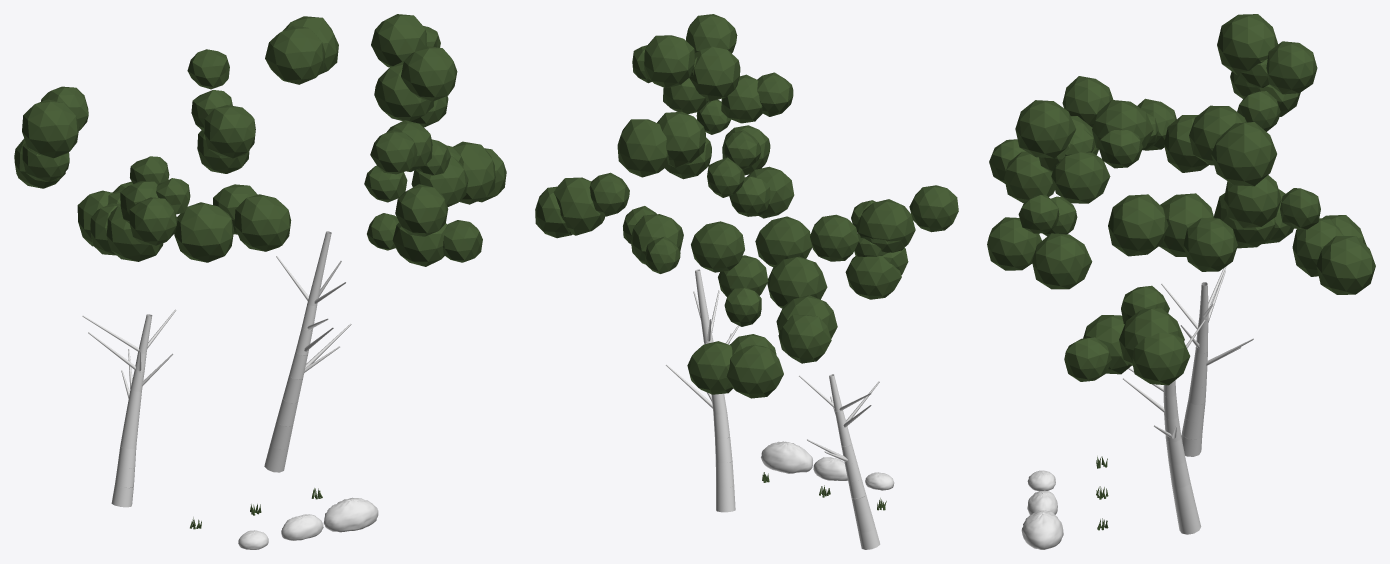
Rendered from tls_env_107_kit_nature_v2.fbx.
3 renders of one model, left to right at view 1: azimuth 30°, elevation 25°; view 2: azimuth 150°, elevation 25°; view 3: azimuth 270°, elevation 25°, orthographic. The views are drawn at different scales.
Parts seen in each view (by area): view 1: TLS_Nat_Tree1_Trunk, TLS_Nat_Tree0_Leaves6_1, TLS_Nat_Tree1_Leaves6_2, TLS_Nat_Tree0_Leaves2_1, TLS_Nat_Tree0_Trunk, TLS_Nat_Tree0_Leaves6_2, TLS_Nat_Tree1_Leaves4_1, TLS_Nat_Tree0_Leaves1_2, TLS_Nat_Tree1_Leaves3_2, TLS_Nat_Tree1_Leaves1_2, TLS_Nat_Tree1_Leaves4_2, TLS_Nat_Tree0_Leaves5_0 (+25 smaller); view 2: TLS_Nat_Tree1_Trunk, TLS_Nat_Tree1_Leaves6_0, TLS_Nat_Tree0_Leaves3_0, TLS_Nat_Tree0_Trunk, TLS_Nat_Tree1_Leaves1_2, TLS_Nat_Tree0_Leaves6_1, TLS_Nat_Tree0_Leaves1_1, TLS_Nat_Tree1_Leaves4_2, TLS_Nat_Tree0_Leaves6_2, TLS_Nat_Tree0_Leaves4_2, TLS_Nat_Tree0_Leaves2_1, TLS_Nat_Tree1_Leaves0_1 (+25 smaller); view 3: TLS_Nat_Tree1_Leaves6_0, TLS_Nat_Tree0_Leaves6_2, TLS_Nat_Tree0_Leaves3_1, TLS_Nat_Tree1_Leaves4_1, TLS_Nat_Tree0_Leaves2_1, TLS_Nat_Tree1_Trunk, TLS_Nat_Tree1_Leaves3_0, TLS_Nat_Tree0_Trunk, TLS_Nat_Tree1_Leaves0_2, TLS_Nat_Tree1_Leaves4_0, TLS_Nat_Tree0_Leaves6_0, TLS_Nat_Tree0_Leaves1_1 (+29 smaller).
Part boxes in pixels (x1,y1,x2,y2): TLS_Nat_Tree1_Trunk: (264,231,331,472); TLS_Nat_Tree0_Leaves6_1: (174,202,233,262); TLS_Nat_Tree1_Leaves6_2: (265,25,325,84); TLS_Nat_Tree0_Leaves2_1: (22,99,79,158); TLS_Nat_Tree0_Trunk: (111,314,152,507); TLS_Nat_Tree0_Leaves6_2: (234,194,291,251); TLS_Nat_Tree1_Leaves4_1: (401,46,457,101); TLS_Nat_Tree0_Leaves1_2: (204,105,255,158); TLS_Nat_Tree1_Leaves3_2: (395,184,448,236); TLS_Nat_Tree1_Leaves1_2: (371,14,426,67); TLS_Nat_Tree1_Leaves4_2: (374,62,434,121); TLS_Nat_Tree0_Leaves5_0: (129,197,177,245); TLS_Nat_Tree1_Trunk: (695,269,735,512); TLS_Nat_Tree1_Leaves6_0: (617,119,669,177); TLS_Nat_Tree0_Leaves3_0: (726,345,783,398); TLS_Nat_Tree0_Trunk: (829,374,880,549); TLS_Nat_Tree1_Leaves1_2: (644,35,695,88); TLS_Nat_Tree0_Leaves6_1: (767,256,827,308); TLS_Nat_Tree0_Leaves1_1: (691,221,744,272); TLS_Nat_Tree1_Leaves4_2: (689,46,740,101); TLS_Nat_Tree0_Leaves6_2: (755,216,812,266); TLS_Nat_Tree0_Leaves4_2: (778,314,831,363); TLS_Nat_Tree0_Leaves2_1: (857,199,915,246); TLS_Nat_Tree1_Leaves0_1: (553,177,605,235); TLS_Nat_Tree1_Leaves6_0: (1211,122,1276,186); TLS_Nat_Tree0_Leaves6_2: (1108,194,1168,256); TLS_Nat_Tree0_Leaves3_1: (1316,236,1375,294); TLS_Nat_Tree1_Leaves4_1: (1015,100,1075,158); TLS_Nat_Tree0_Leaves2_1: (1217,14,1278,75); TLS_Nat_Tree1_Trunk: (1163,312,1201,534); TLS_Nat_Tree1_Leaves3_0: (1032,233,1092,289); TLS_Nat_Tree0_Trunk: (1181,282,1208,456); TLS_Nat_Tree1_Leaves0_2: (1132,332,1190,385); TLS_Nat_Tree1_Leaves4_0: (1051,152,1110,203); TLS_Nat_Tree0_Leaves6_0: (1183,217,1237,271); TLS_Nat_Tree0_Leaves1_1: (1224,175,1281,227).
Bounding box in the file's own units: 1426 × 1437 × 1053.
